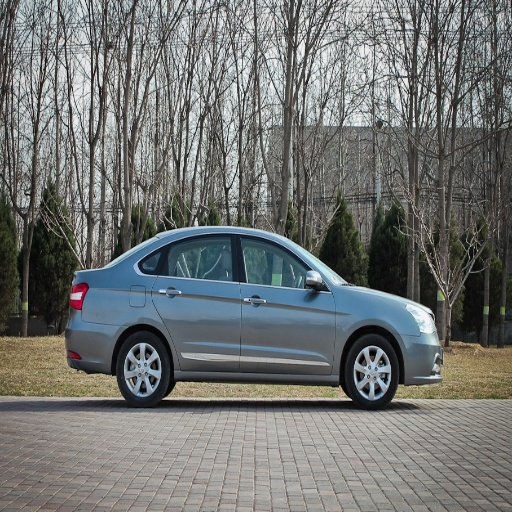back_right_door: (150, 234, 242, 370)
front_right_door: (237, 234, 335, 371)
